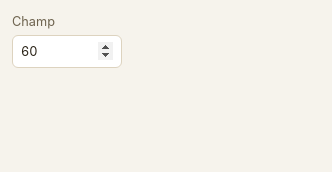
Test case: NumberField (R1) › min 5 : tout sélectionner puis taper 30 donne 30 (pas 50) ; la valeur intermédiaire est signalée, pas corrigée
Later steps or results of the test are not shown.
Replace the text in the number field labelled "Champ" with "3" at x=67, y=52, box [12,35,122,68]
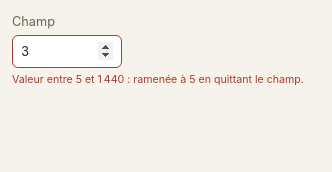
Check: the text "Valeur entre 5 et 1 440 : ramenée à 5 en quittant le champ." is shown, box [12,73,304,86]
Replace the text in the number field labelled "Champ" with "30" at x=67, y=52, box [12,35,122,68]
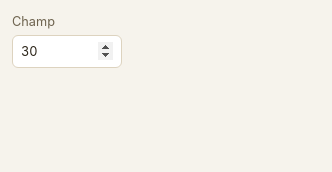
Check: the number field labelled "Champ" does not have attribute aria-invalid, box [12,35,122,68]
